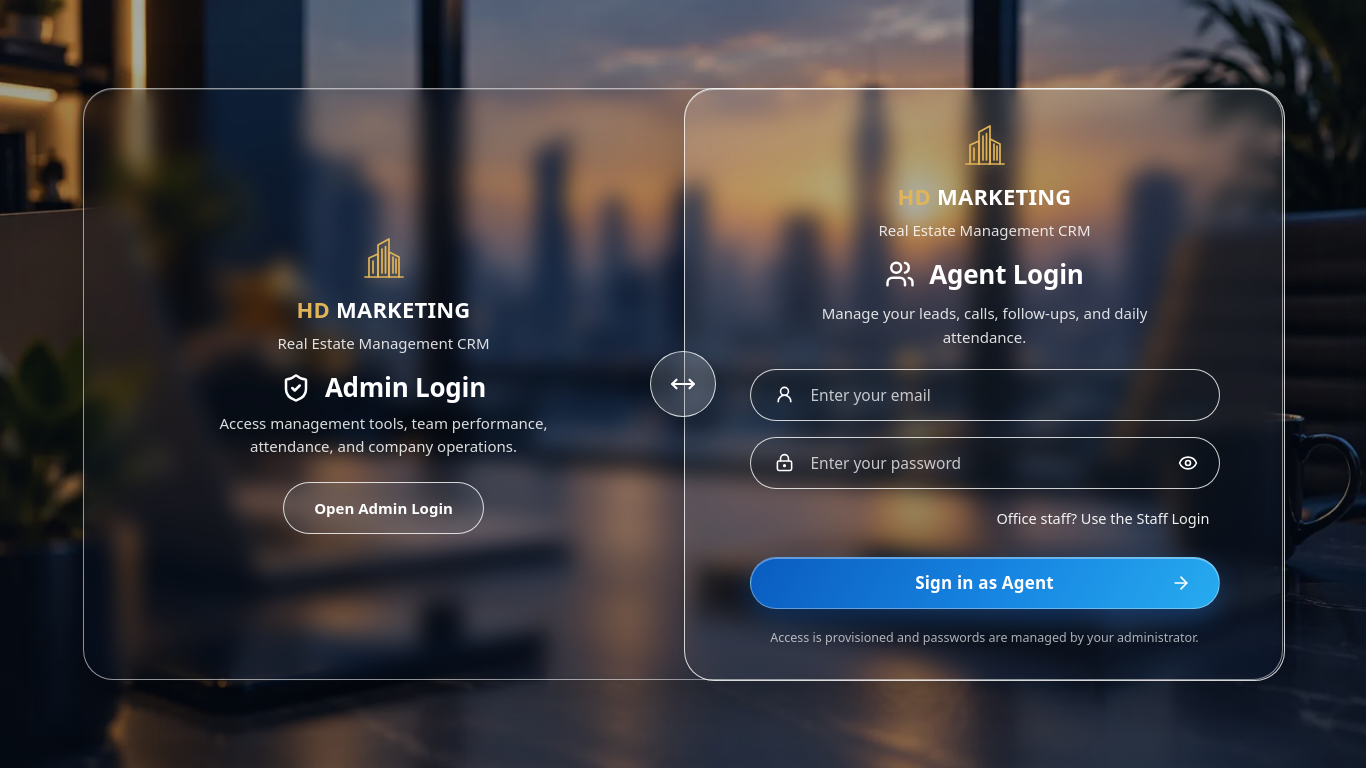
glass sign-in page › swaps immediately when the device prefers reduced motion
The image size is (1366, 768).
Click the button named "Switch to Admin Login": (683, 384) left=650, top=351, right=716, bottom=417
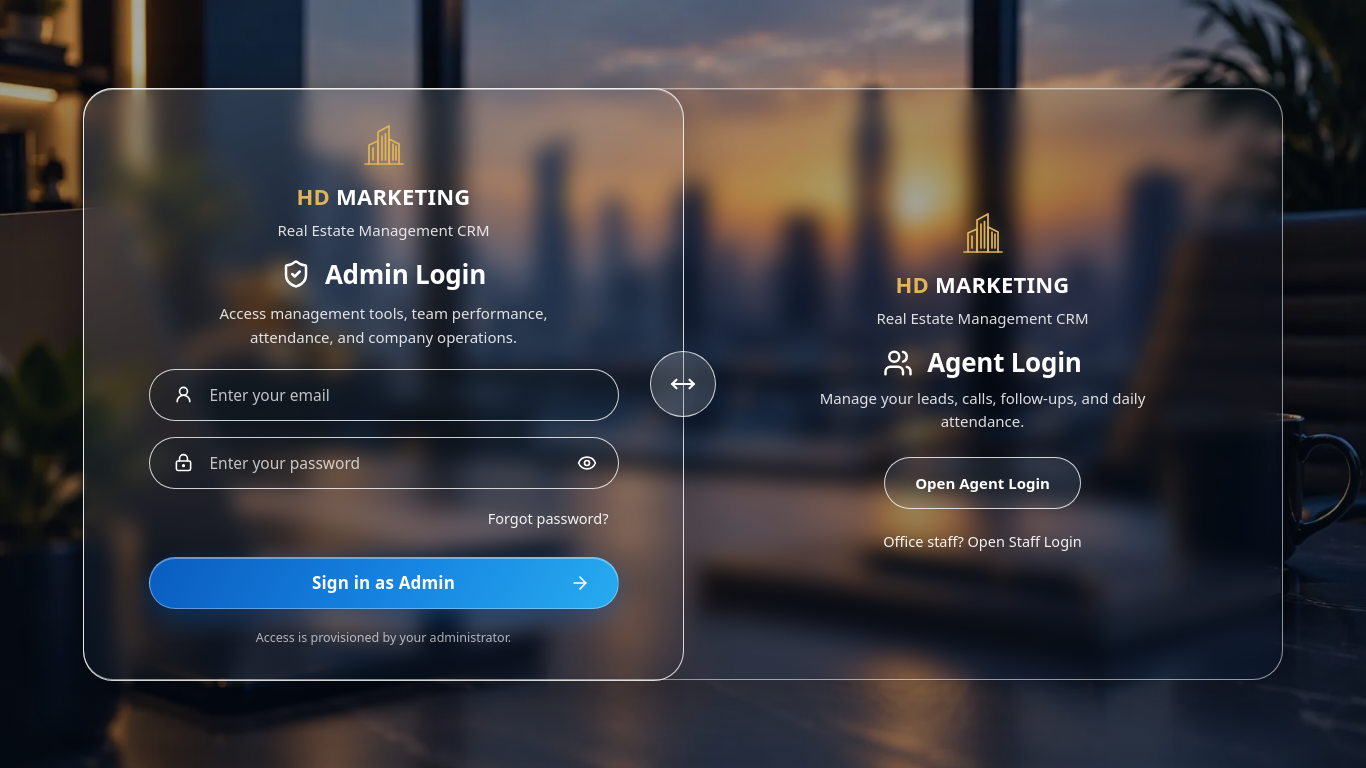
Now the heading reads "Admin Login", box left=325, top=256, right=486, bottom=292
